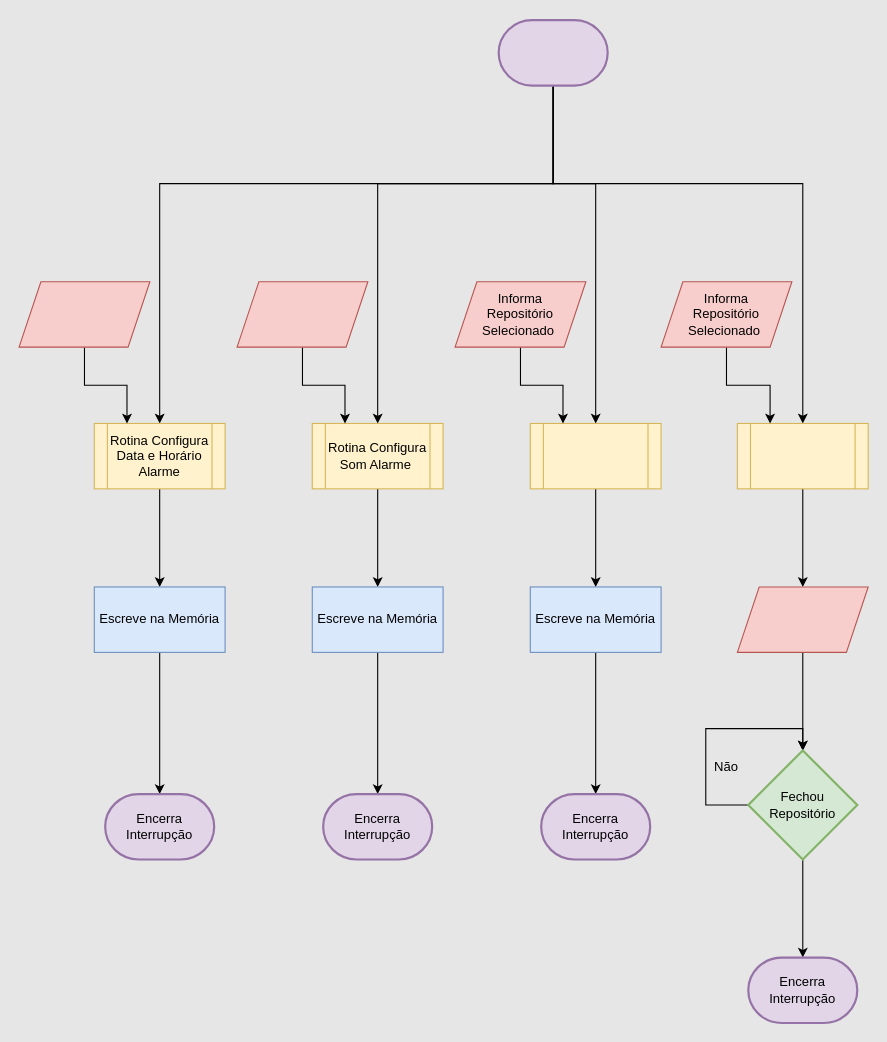
Some shapes in this 887 by 1042 pixel diagram are drawn without their labels. The centre of each missing label's shape, as x and y in pixels:
"Abre repositório" goes at (802,619).
"Controlador Interrupções" goes at (552,52).
"Data e Horário" goes at (84,314).
"Informa Alarme Selecionado" goes at (302,314).
"Rotina Abre Repositório" goes at (802,455).
"Rotina Configura Repositório" goes at (595,455).
